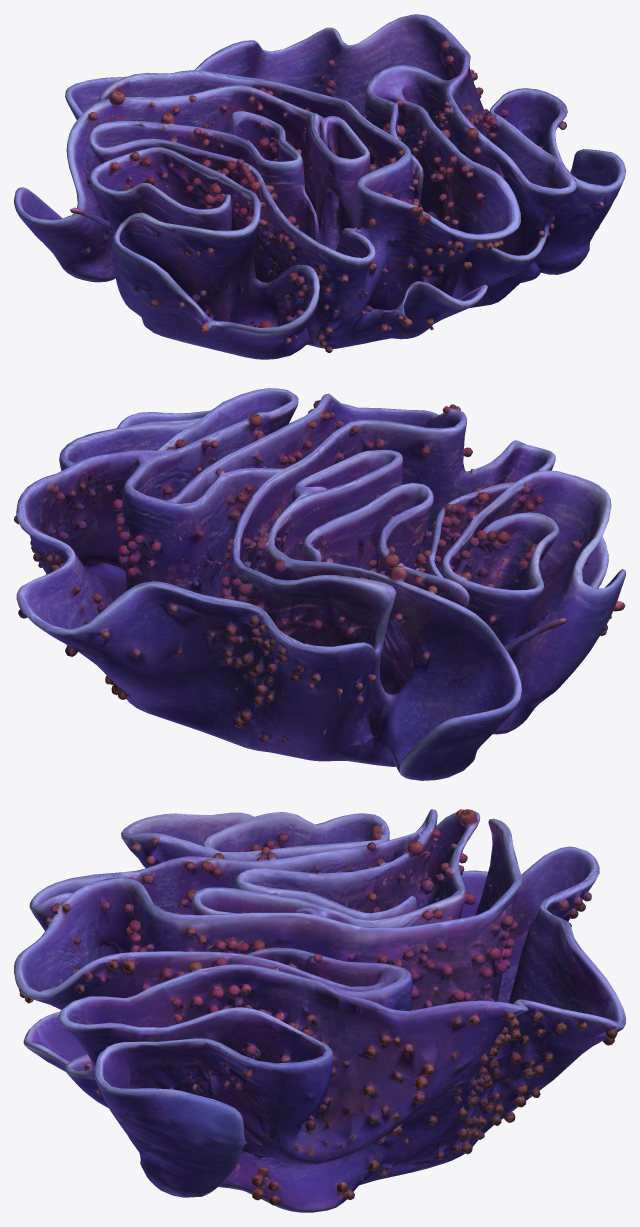
3 renders of one model, top to bottom at view 1: azimuth 30°, elevation 25°; view 2: azimuth 150°, elevation 25°; view 3: azimuth 270°, elevation 25°, orthographic. The views are drawn at different scales.
Parts seen in each view (by area): view 1: mesh_node; view 2: mesh_node; view 3: mesh_node.
Part boxes in pixels (left/top/right/bottom): mesh_node: left=14, top=14, right=625, bottom=359; mesh_node: left=14, top=388, right=625, bottom=780; mesh_node: left=14, top=809, right=625, bottom=1212.
Bounding box in the file's own units: 1.9 × 0.7343 × 1.82.
1 material, 1 textured.
